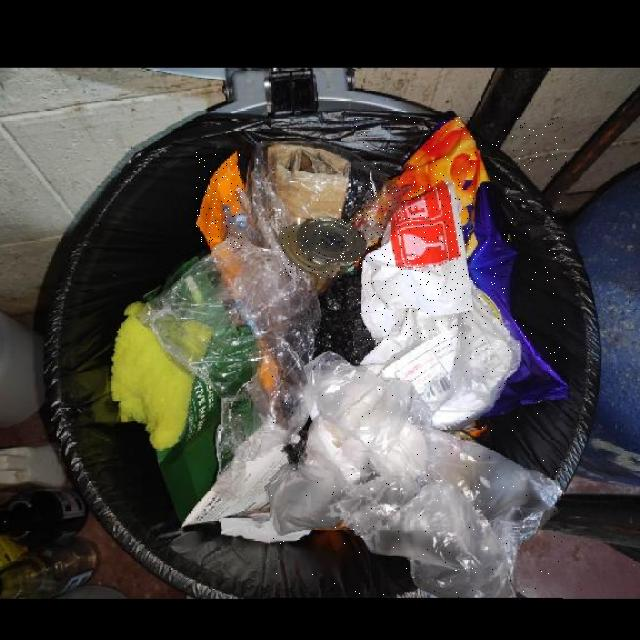metal: (298, 218, 367, 266), (280, 226, 341, 278)
paper: (360, 182, 473, 340)
plastic: (270, 353, 563, 599)
wrapper: (354, 118, 567, 418), (196, 152, 243, 250)
